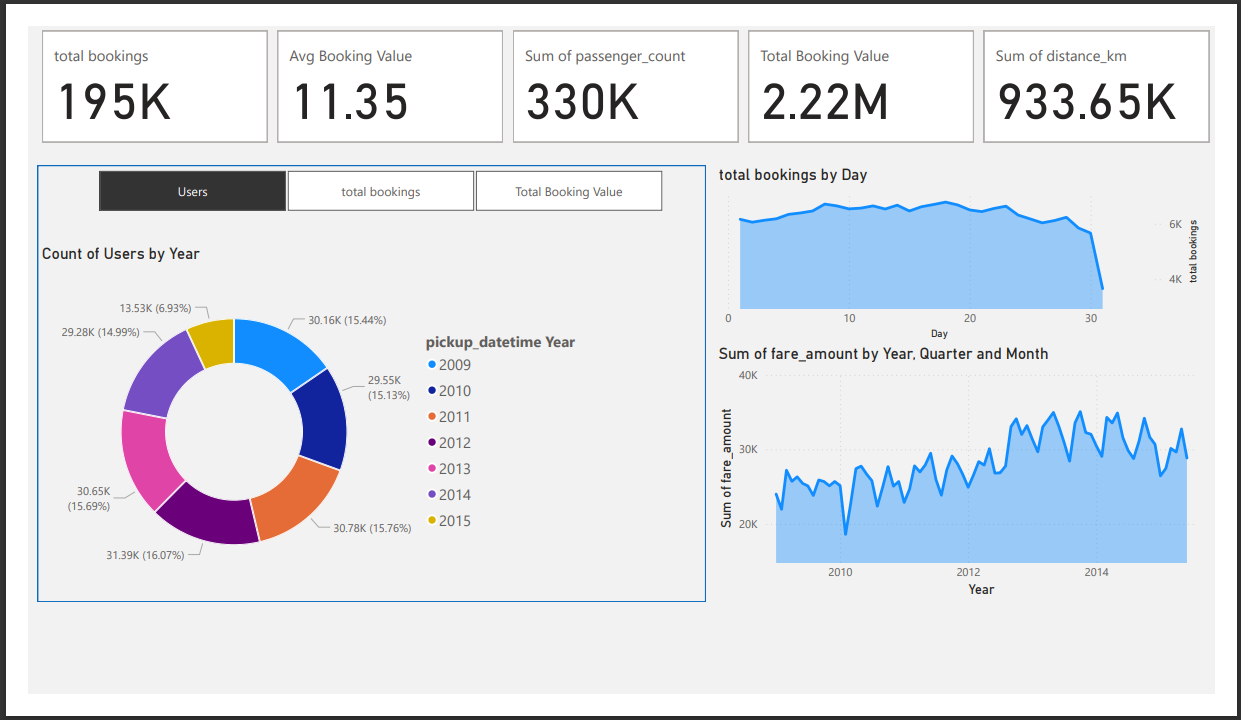

The page's visual inventory and layout, read from the dashboard file:
{"tool":"powerbi","page":{"name":"Page 1","canvas":[1280,720],"ordinal":0},"visuals":[{"type":"cardVisual","fields":{"Data":["uber_enhanced.total bookings","uber_enhanced.Avg Booking Value","Sum(uber_enhanced.passenger_count)","uber_enhanced.Total Booking Value","Sum(uber_enhanced.distance_km)"]},"box":[9.8,0,1270,130],"z":0},{"type":"shape","box":[9.8,150.4,721.5,470.8],"z":1000},{"type":"donutChart","fields":{"Category":["uber_enhanced.pickup_datetime.Variation.Date Hierarchy.Year","uber_enhanced.pickup_datetime.Variation.Date Hierarchy.Quarter","uber_enhanced.pickup_datetime.Variation.Date Hierarchy.Month","uber_enhanced.pickup_datetime.Variation.Date Hierarchy.Day"],"Y":["CountNonNull(uber_enhanced.key)"]},"box":[9.8,234.8,598,386.4],"z":3000},{"type":"areaChart","fields":{"Y2":["uber_enhanced.total bookings"],"Category":["uber_enhanced.pickup_datetime.Variation.Date Hierarchy.Day"]},"box":[740.1,149.9,528,193.1],"z":4000},{"type":"slicer","fields":{"Values":["Dynamic.Dynamic"]},"box":[50.7,149.4,657.2,57],"z":4500},{"type":"stackedAreaChart","fields":{"Y":["Sum(uber_enhanced.fare_amount)"],"Category":["uber_enhanced.key.Variation.Date Hierarchy.Year","uber_enhanced.key.Variation.Date Hierarchy.Quarter","uber_enhanced.key.Variation.Date Hierarchy.Month"]},"box":[740,343,528,278],"z":5000}]}

Visuals, with their boxes on the page's 1280x720 design canvas (x1, y1, x2, y2). These are canvas units, not pixel positions in the 1241x720 screenshot, which may show the page scaled, cropped or inside an application window:
cardVisual - uber_enhanced.total bookings x uber_enhanced.Avg Booking Value: region(10, 0, 1280, 130)
shape: region(10, 150, 731, 621)
donutChart - uber_enhanced.pickup_datetime.Variation.Date Hierarchy.Year x uber_enhanced.pickup_datetime.Variation.Date Hierarchy.Quarter: region(10, 235, 608, 621)
areaChart - uber_enhanced.total bookings x uber_enhanced.pickup_datetime.Variation.Date Hierarchy.Day: region(740, 150, 1268, 343)
slicer - Dynamic.Dynamic: region(51, 149, 708, 206)
stackedAreaChart - Sum(uber_enhanced.fare_amount) x uber_enhanced.key.Variation.Date Hierarchy.Year: region(740, 343, 1268, 621)
